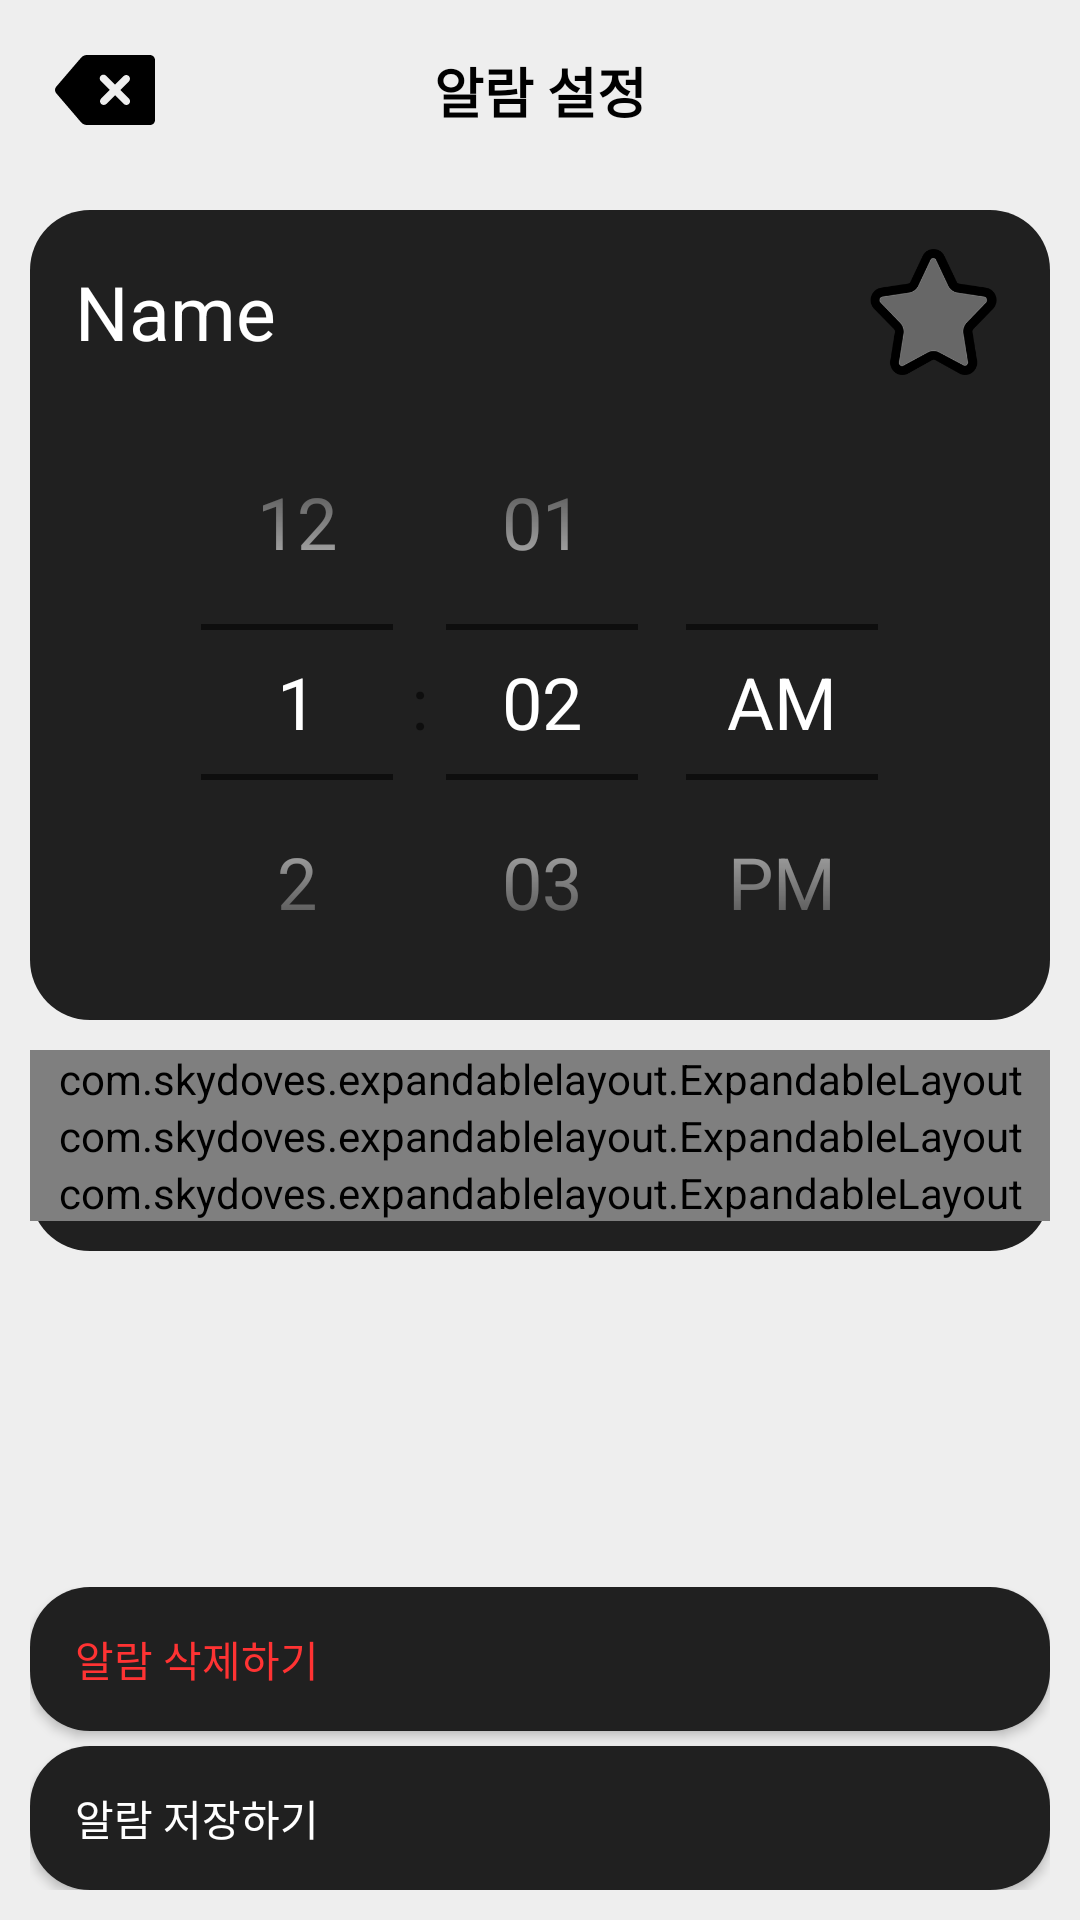

Locate icon controls on the screen. Image size 1080px x 1920px, boxes as (x1, y1, x2, y2).
favorite star checkbox: (871, 249, 996, 375)
iconmonstr backspace: (55, 55, 155, 125)
